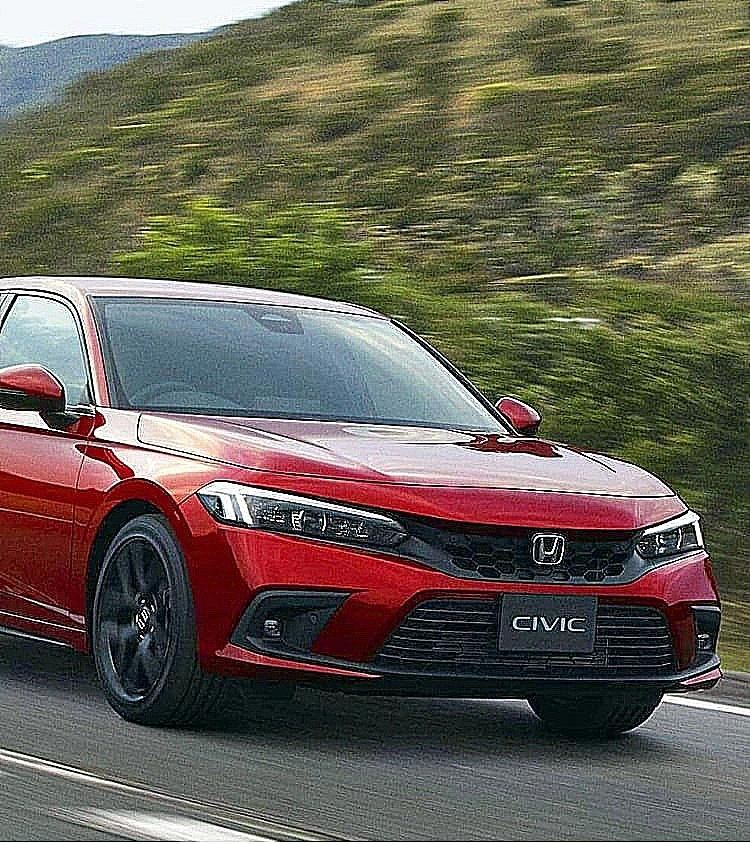Car hood: (129, 407, 688, 527)
Driver-s door - -F-R-: (0, 263, 103, 679)
Fender - -F-R-: (67, 407, 226, 648)
Front bumper: (164, 489, 725, 707)
Headlight - -L-: (626, 509, 713, 568)
Headlight - -R-: (194, 483, 408, 563)
Side bumper - -R-: (0, 567, 95, 676)
Side mirror - -L-: (496, 389, 544, 439)
Side mirror - -R-: (0, 360, 87, 445)
